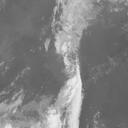cyclone: (50, 40, 89, 99)
